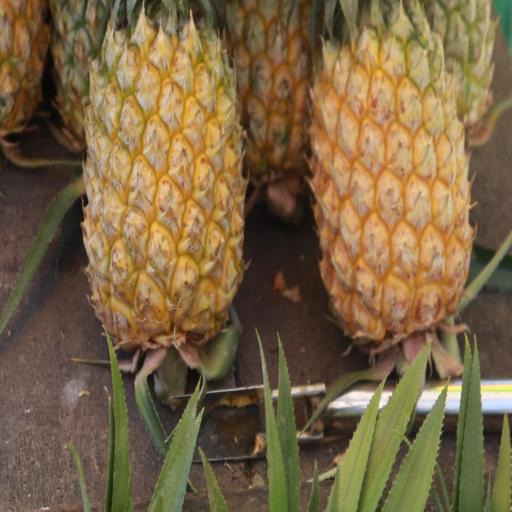Pineapple - v8 v1: (80, 0, 251, 389), (304, 10, 481, 358)
